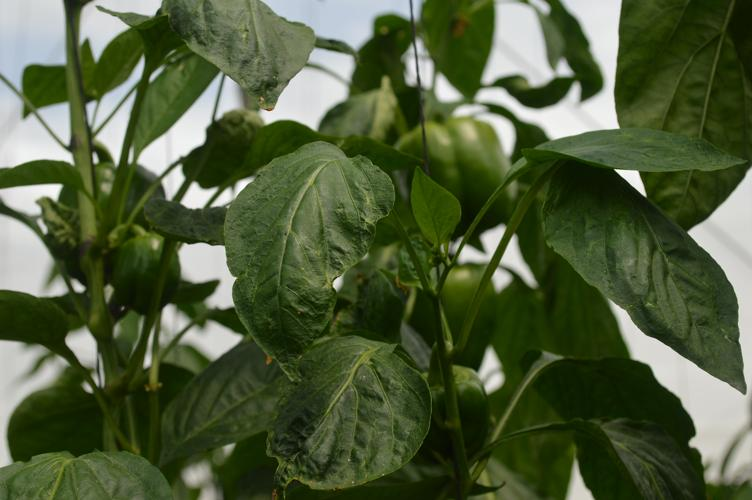BellPepper: (398, 121, 517, 229), (58, 161, 165, 246), (413, 357, 491, 459), (416, 262, 494, 363), (101, 238, 179, 309)
